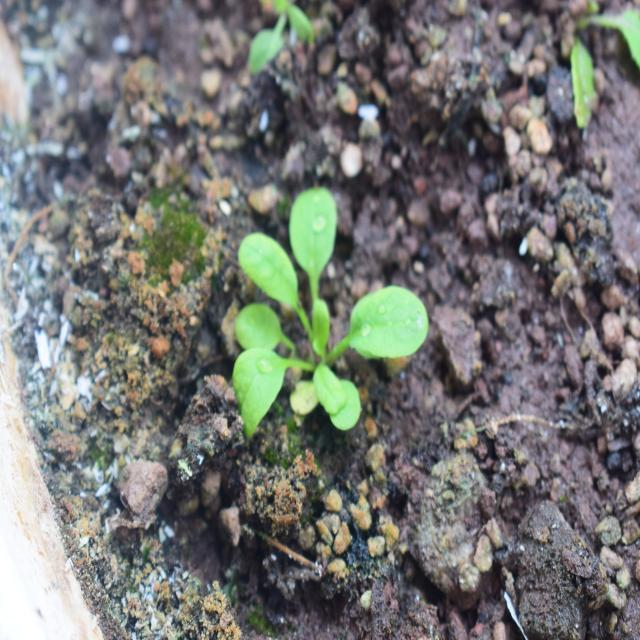Shepherd_Purse: (214, 178, 430, 444)
